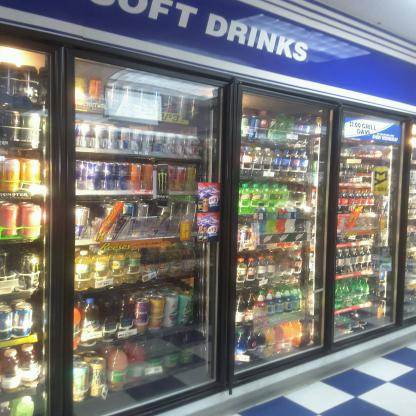Void: (100, 300, 117, 340), (88, 206, 104, 218)
